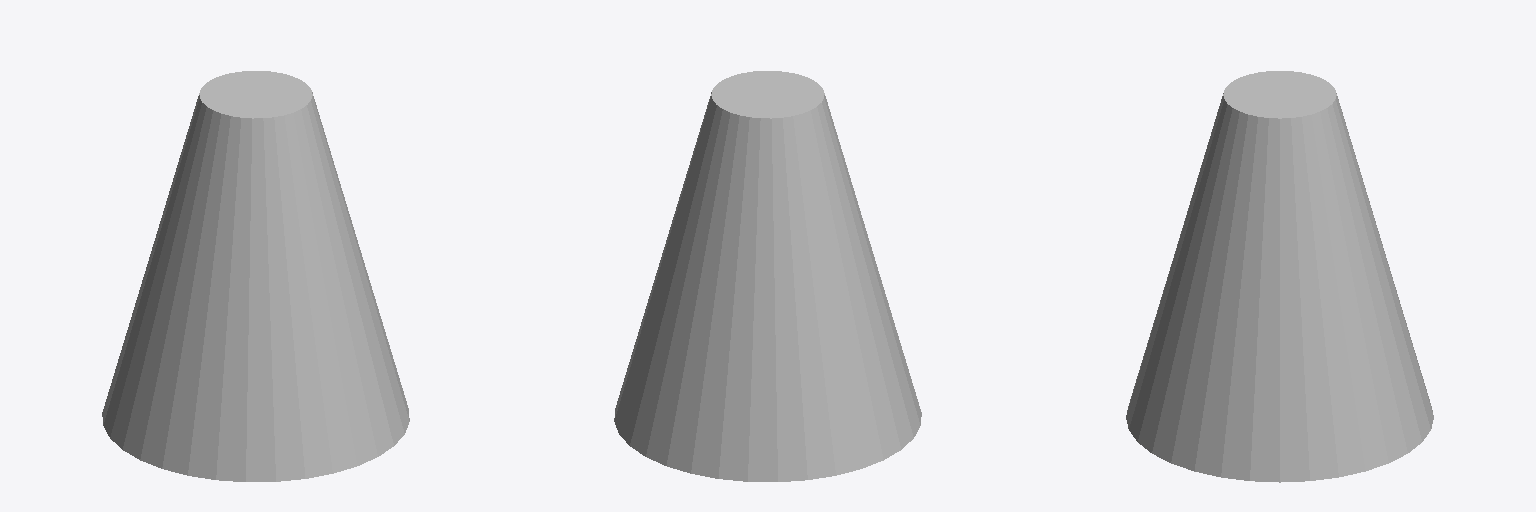
Rendered from body.obj.
3 views of the same model, side by side, from view 1: azimuth 30°, elevation 25°; view 2: azimuth 150°, elevation 25°; view 3: azimuth 270°, elevation 25° (orthographic).
Parts seen in each view (by area): view 1: Cylinder_Cylinder.001; view 2: Cylinder_Cylinder.001; view 3: Cylinder_Cylinder.001.
Boxes of the visible parts, box(x1,y1,x2,y2) form: Cylinder_Cylinder.001: box(102, 71, 409, 481); Cylinder_Cylinder.001: box(614, 71, 921, 481); Cylinder_Cylinder.001: box(1126, 71, 1433, 482).
Bounding box in the file's own units: 2 × 2.31 × 2.